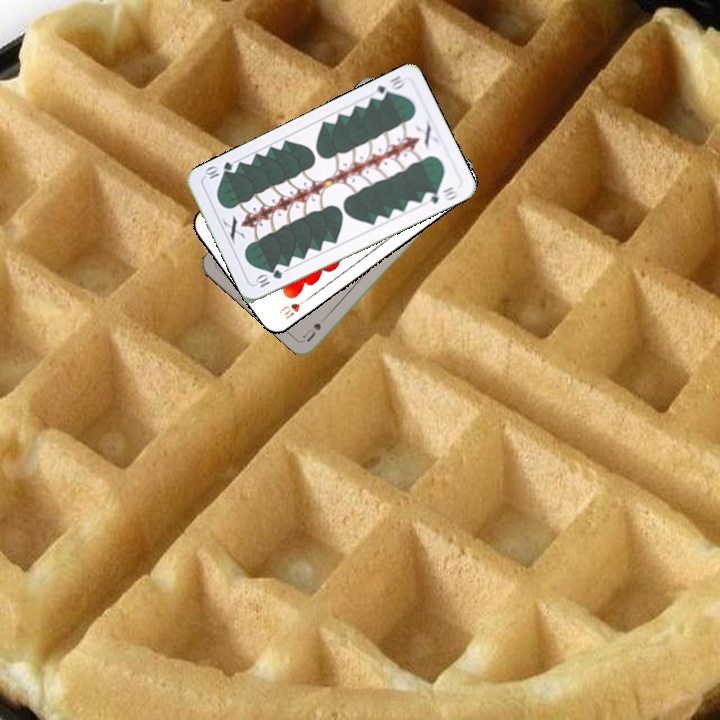G10: (368, 72, 408, 103), (252, 266, 285, 290)
H10: (275, 293, 312, 322)
SU: (300, 310, 333, 344)
